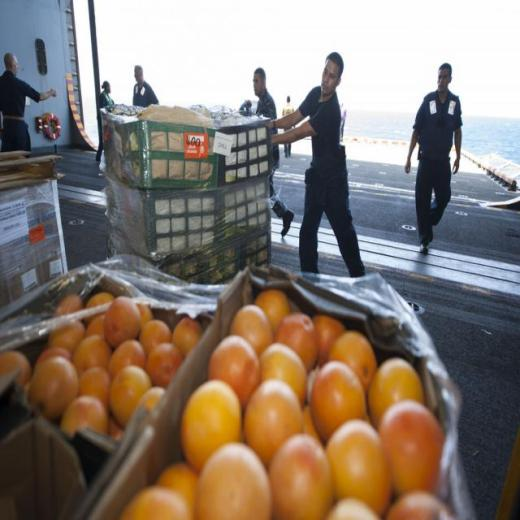Grape: (385, 394, 444, 487)
